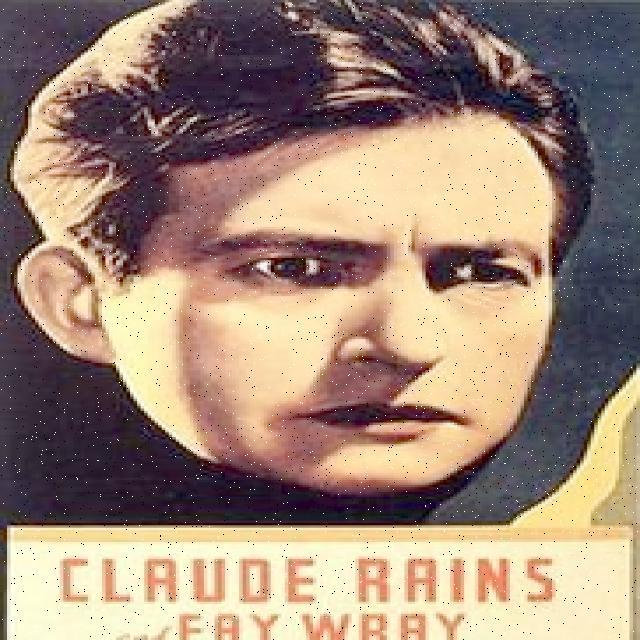movie-judul: (47, 551, 568, 612)
picture: (4, 2, 638, 526)
